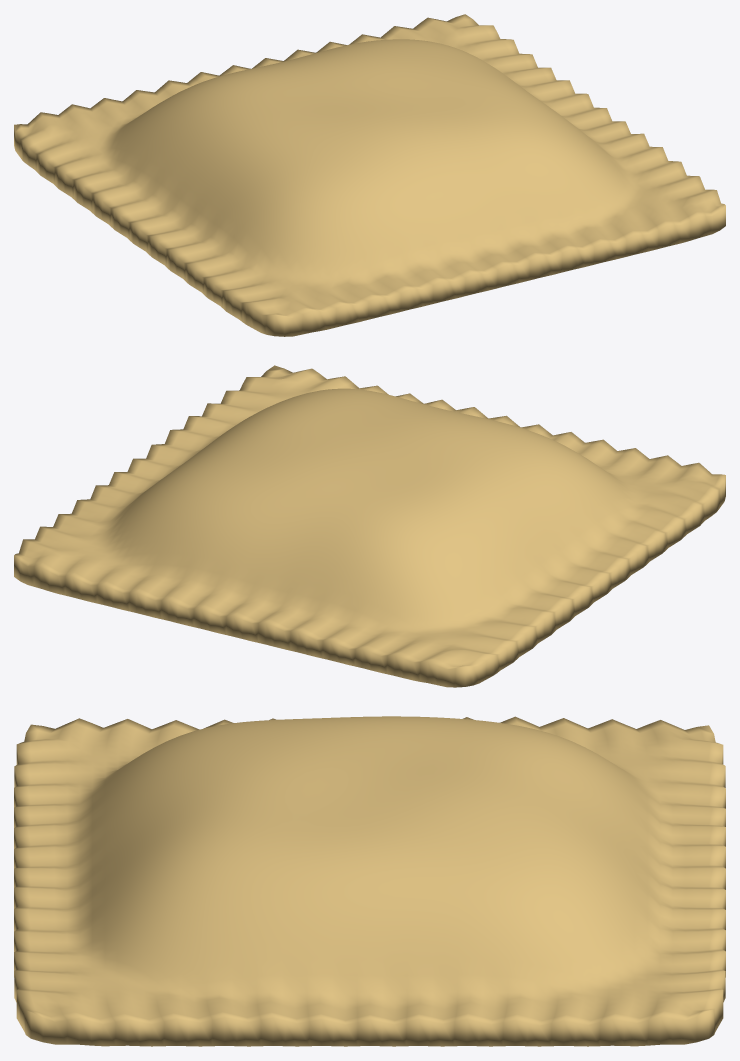
File: NEW361_ravioli_LOD1.glb
The picture shows the model from 3 angles, top to bottom: view 1: azimuth 30°, elevation 25°; view 2: azimuth 150°, elevation 25°; view 3: azimuth 270°, elevation 25°; orthographic projection. The views are drawn at different scales.
Parts seen in each view (by area): view 1: Whole_square_raviolo; view 2: Whole_square_raviolo; view 3: Whole_square_raviolo.
Part boxes in pixels (box(x1,y1,x2,y2)): Whole_square_raviolo: box(14, 14, 725, 336); Whole_square_raviolo: box(14, 365, 725, 687); Whole_square_raviolo: box(14, 716, 725, 1046).
Size of the model in its own units: 0.0554 by 0.0117 by 0.0554.
